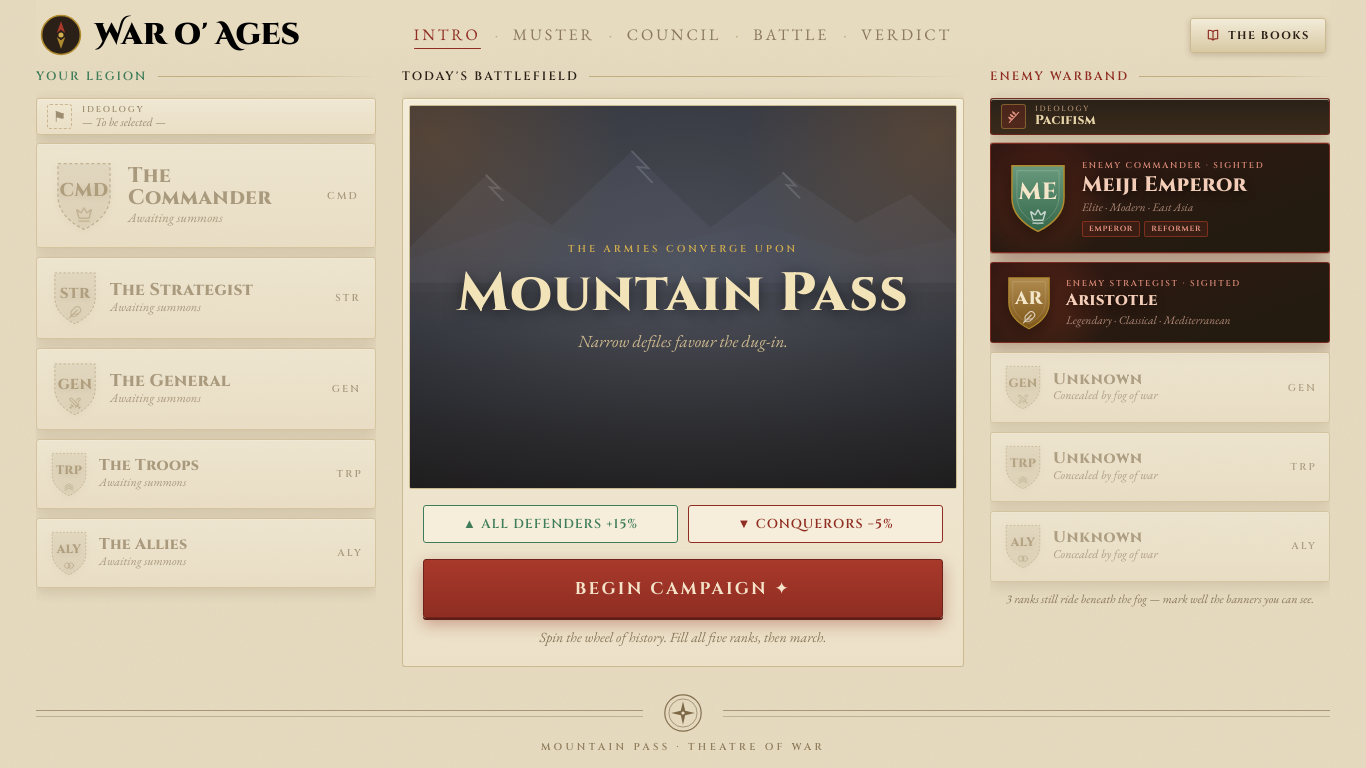
Scenario: App › advances from intro into the muster wheel
The width and height of the screenshot is (1366, 768).
Click the button "Begin Campaign ✦".
click(683, 588)  # box [423,559,943,618]
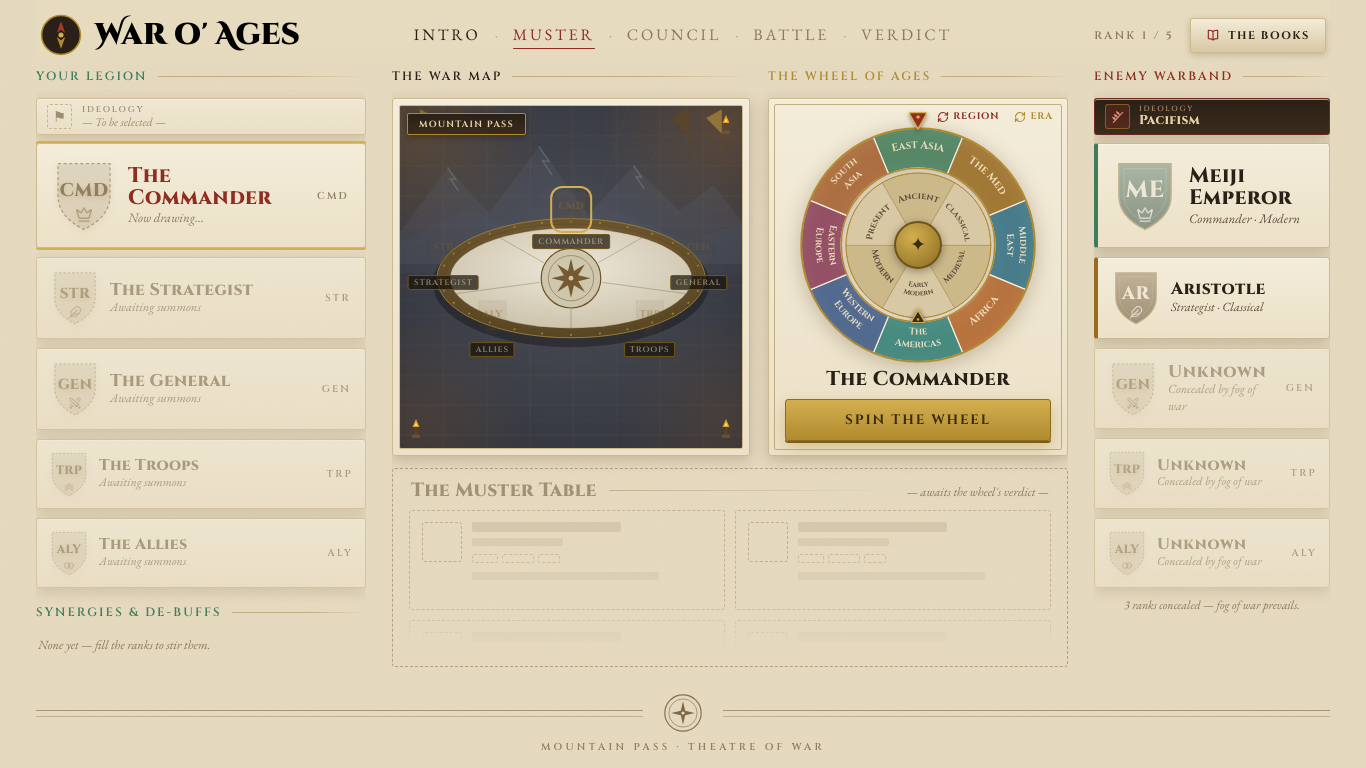
Now the button "Spin the Wheel" is shown, box [785,399,1051,441]
Now the text "The Wheel of Ages" is shown, box [768,68,931,84]
